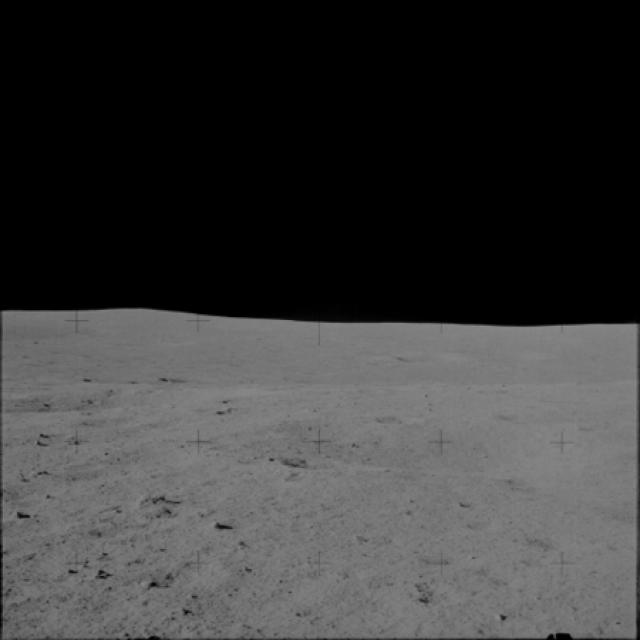crater: (222, 413, 570, 498), (0, 382, 142, 423)
rock: (129, 480, 176, 520)
